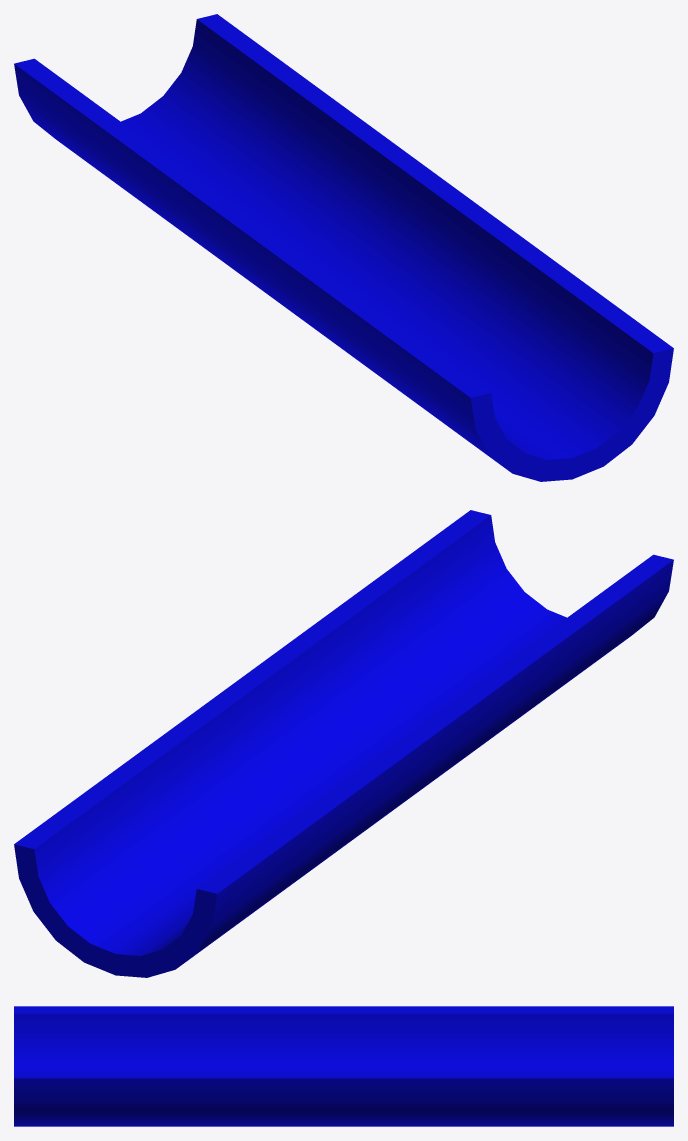
Rendered from Vessel_Vein_Straight.fbx.
3 renders of one model, top to bottom at view 1: azimuth 30°, elevation 25°; view 2: azimuth 150°, elevation 25°; view 3: azimuth 270°, elevation 25°, orthographic. The views are drawn at different scales.
Visible parts, largest first — view 1: Maya_Organ_Map_Vessels:pPipe1; view 2: Maya_Organ_Map_Vessels:pPipe1; view 3: Maya_Organ_Map_Vessels:pPipe1.
Boxes of the visible parts, <box> form: Maya_Organ_Map_Vessels:pPipe1: <box>14,14,673,481</box>; Maya_Organ_Map_Vessels:pPipe1: <box>14,510,673,977</box>; Maya_Organ_Map_Vessels:pPipe1: <box>14,1006,673,1126</box>.
Size of the model in its own units: 2.51 by 1.25 by 9.75.
